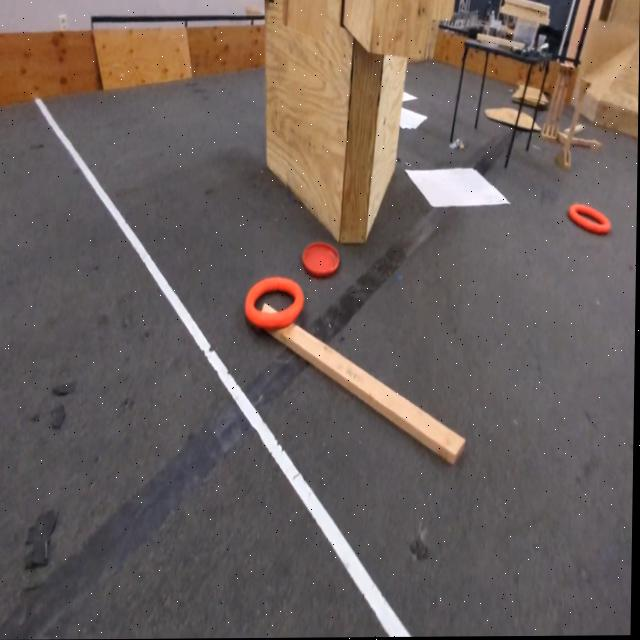note: (246, 276, 308, 329), (570, 202, 614, 237)
